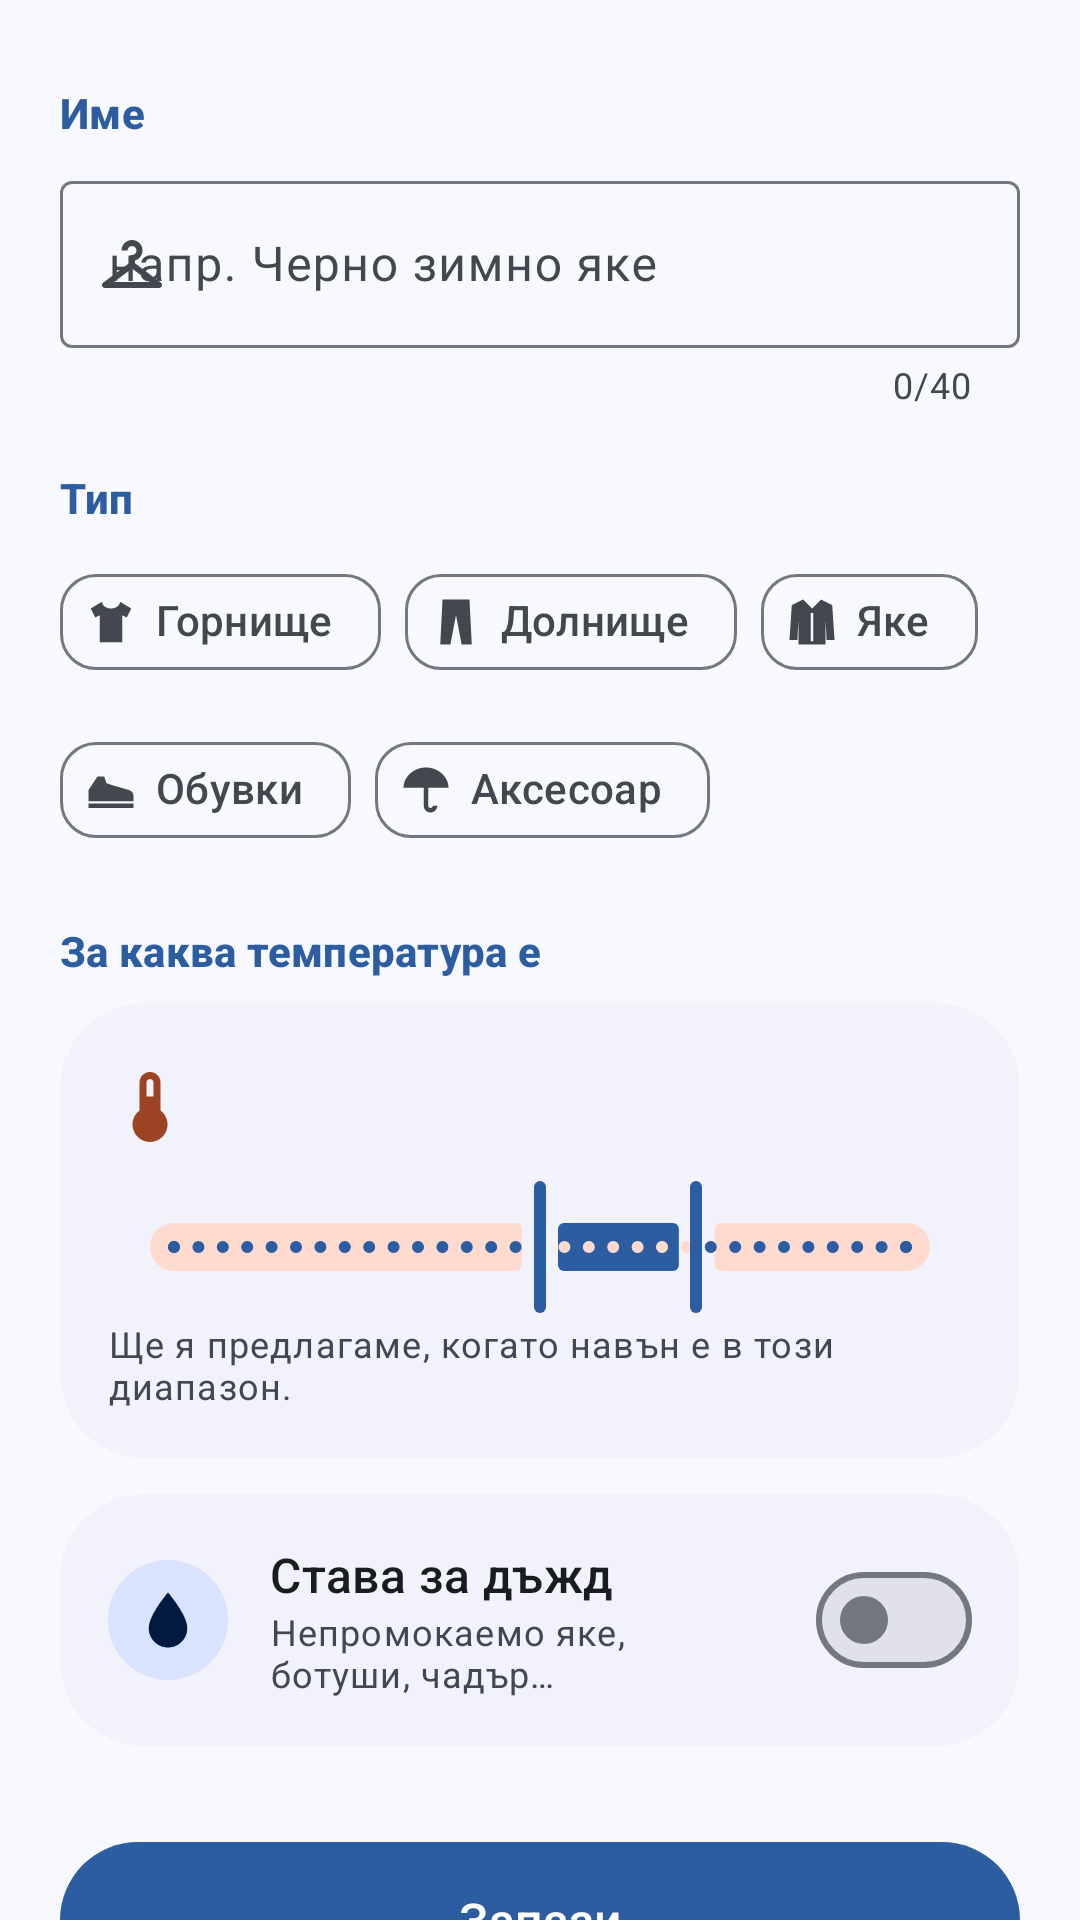

Icons on this 1080x1920 Android screen, each with the point to tap as [x,y]:
thermometer: [150,1107]
water drop: [168,1620]
